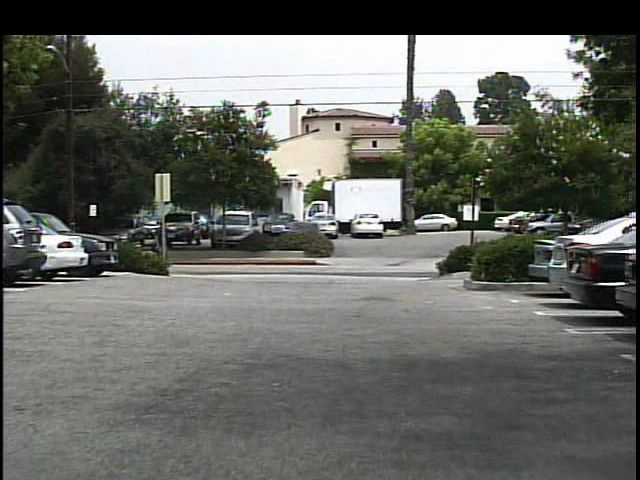person: (151, 218, 176, 274)
